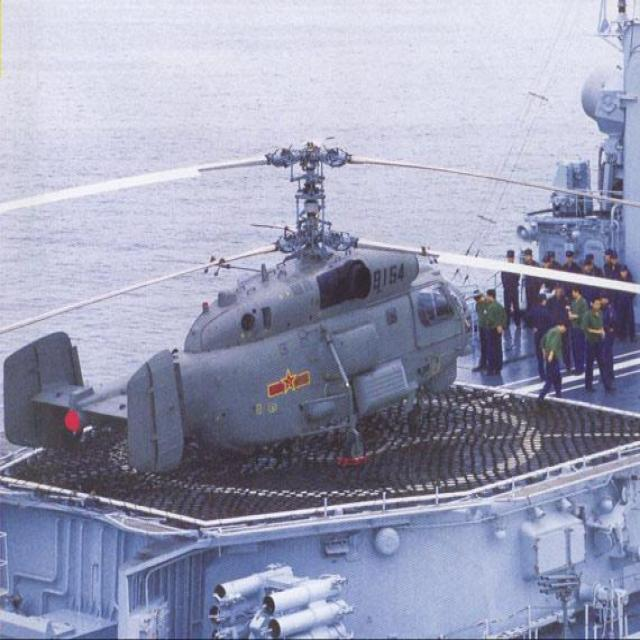MIL_HELO: (0, 105, 640, 469)
